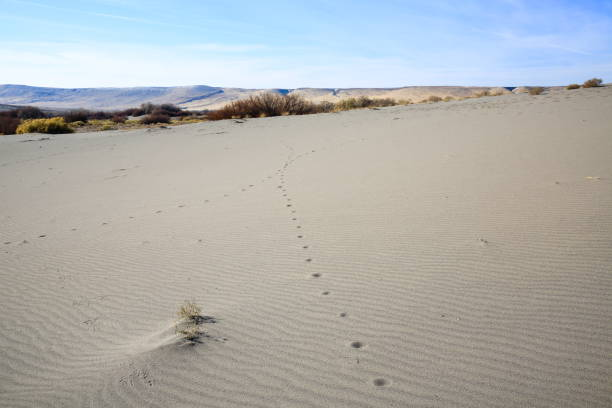animal_footprint: (372, 378, 390, 386), (349, 341, 365, 348), (311, 272, 322, 278), (339, 312, 347, 317), (321, 291, 330, 295), (155, 210, 162, 213), (177, 204, 184, 207), (302, 245, 308, 248), (305, 258, 311, 261), (297, 235, 302, 238), (296, 225, 300, 228), (292, 217, 296, 220), (286, 204, 291, 206)
